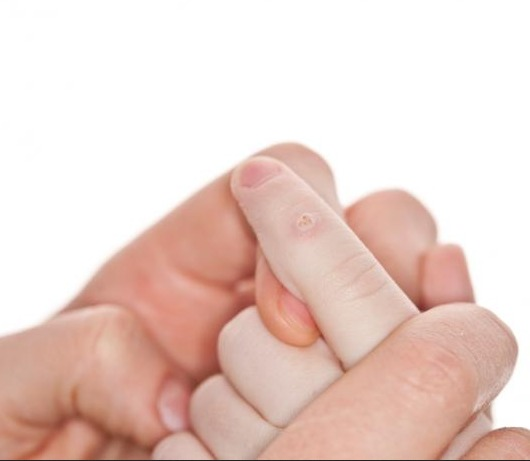Warts: (285, 195, 329, 245)
